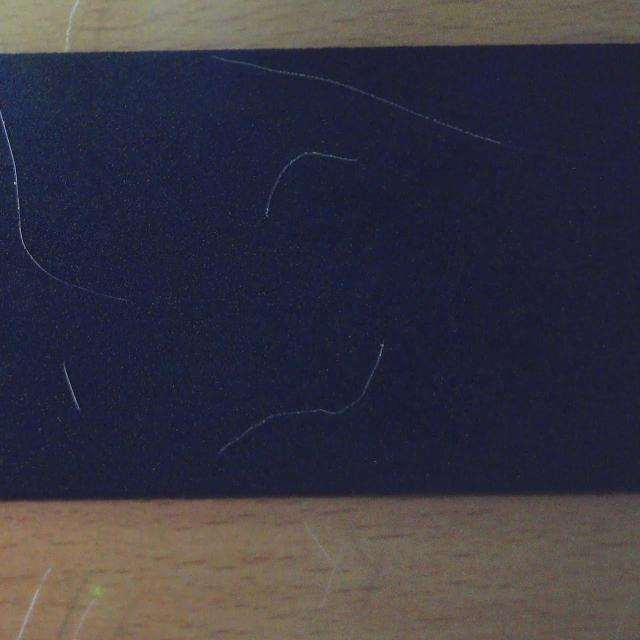defect: (210, 54, 512, 148), (0, 113, 132, 306), (221, 340, 389, 454), (268, 148, 364, 214), (60, 360, 86, 415)
